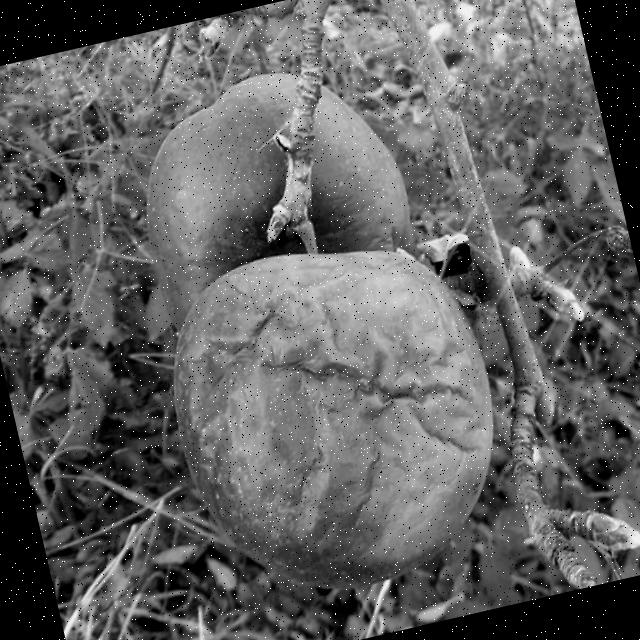overripe: (139, 214, 529, 619)
